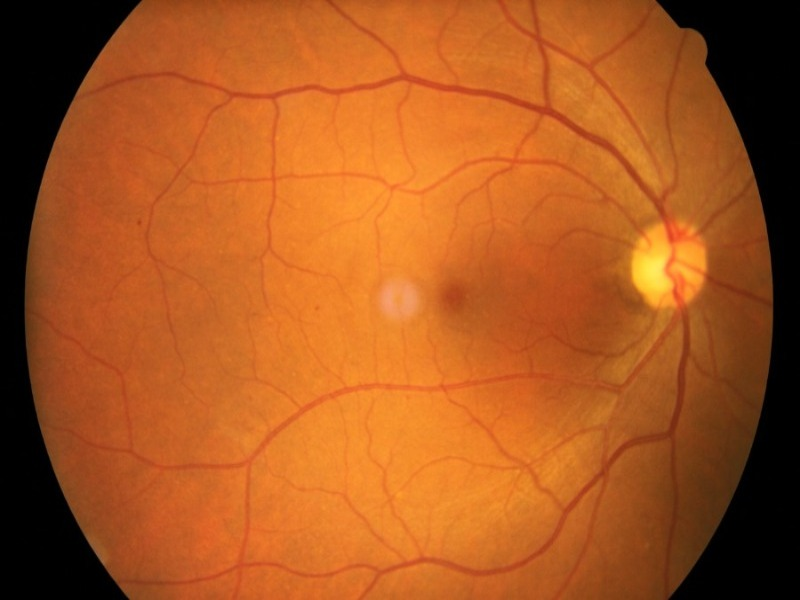Optic Cup: (633, 252, 673, 296)
Optic Disc: (631, 222, 705, 309)
